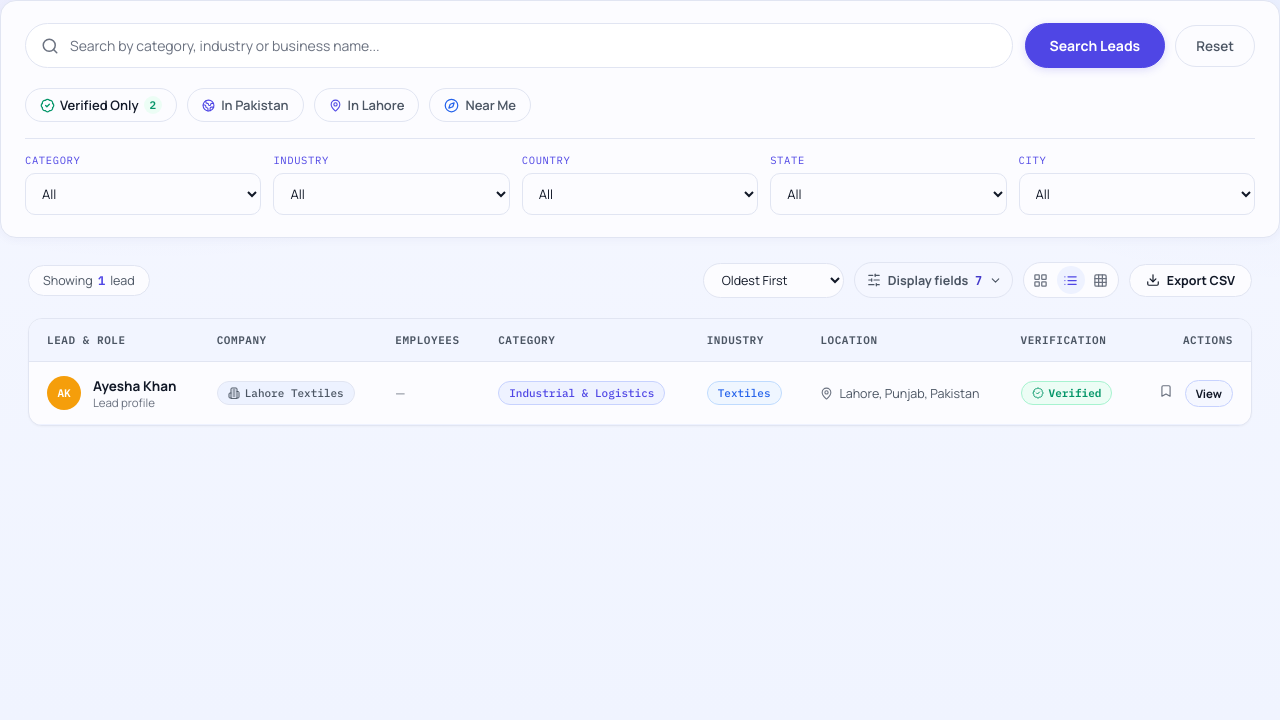
Test case: Near Me on the Search Leads page › says so when the matching leads simply have no coordinates
Expected: the text "Ayesha Khan" is shown, 93,376 -> 176,394
Click the button "Near Me".
click(480, 105)  # box 430,88 -> 531,122
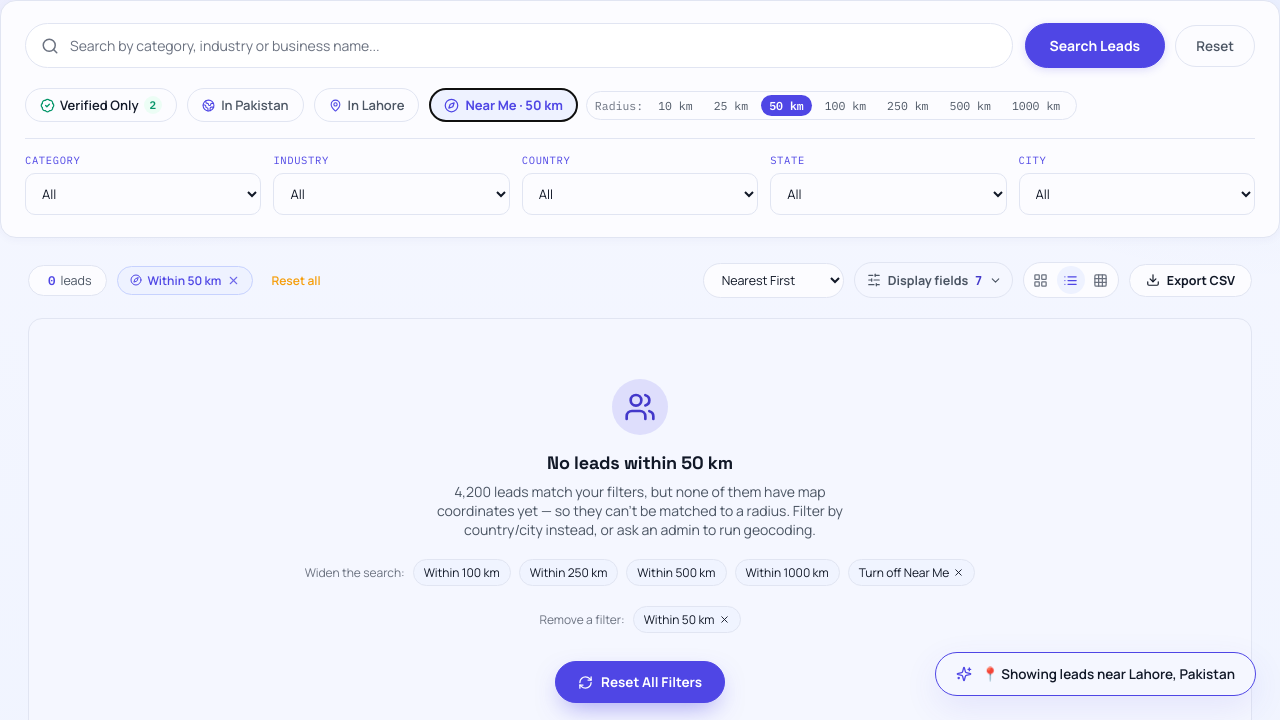
Result: the text "none of them have map coordinates" is shown at 437,482 -> 843,539
